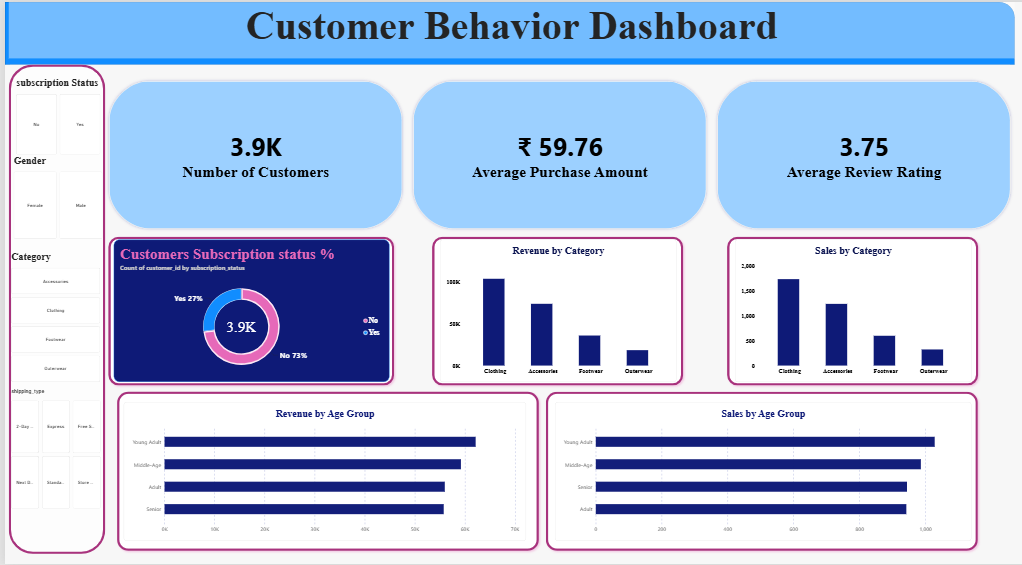

This screenshot's page, from the dashboard's own definition file:
{"tool":"powerbi","page":{"name":"Page 1","canvas":[3000,1500],"ordinal":0},"visuals":[{"type":"cardVisual","fields":{"Data":["public customer.Number of Customers","public customer.Average Purchase Amount","public customer.Average Review Rating"]},"box":[267.5,200,2425,415],"z":0},{"type":"shape","box":[0,0,2692.5,167.5],"z":1000},{"type":"textbox","box":[10,0,2682.5,150],"z":2000},{"type":"shape","box":[267.5,615,780,415],"z":3000},{"type":"donutChart","title":"Customers Subscription status %","fields":{"Category":["public customer.subscription_status"],"Y":["CountNonNull(public customer.customer_id)"]},"box":[290,632.5,735,380],"z":4000},{"type":"shape","box":[1131.2,615,687.5,415],"z":5000},{"type":"shape","box":[1915,615,687.5,415],"z":6000},{"type":"clusteredColumnChart","title":"Revenue by Category","fields":{"Category":["public customer.category"],"Y":["Sum(public customer.purchase_amount)"]},"box":[1160,632.5,630,380],"z":7000},{"type":"clusteredColumnChart","title":"Sales by Category","fields":{"Category":["public customer.category"],"Y":["CountNonNull(public customer.customer_id)"]},"box":[1945,632.5,630,380],"z":8000},{"type":"shape","box":[10,167.5,257.5,1305],"z":9000},{"type":"advancedSlicerVisual","title":"subscription Status","fields":{"Values":["public customer.subscription_status"]},"box":[30,200,225,207.5],"z":10000},{"type":"advancedSlicerVisual","title":"Gender","fields":{"Values":["public customer.gender"]},"box":[22.5,407.5,237.5,225],"z":11000},{"type":"advancedSlicerVisual","title":"Category","fields":{"Values":["public customer.category"]},"box":[17.5,662.5,237.5,350],"z":12000},{"type":"advancedSlicerVisual","fields":{"Values":["public customer.shipping_type"]},"box":[17.5,1030,240,322.5],"z":13000},{"type":"shape","box":[290,1030,1142.5,442.5],"z":14000},{"type":"shape","box":[1432.5,1030,1170,442.5],"z":15000},{"type":"clusteredBarChart","title":"Revenue by Age Group","fields":{"Category":["public customer.age_group"],"Y":["Sum(public customer.purchase_amount)"]},"box":[317.5,1067.5,1072.5,370],"z":16000},{"type":"clusteredBarChart","title":"Sales by Age Group","fields":{"Category":["public customer.age_group"],"Y":["CountNonNull(public customer.customer_id)"]},"box":[1465,1067.5,1110,370],"z":17000}]}

Visuals, with their boxes on the page's 3000x1500 design canvas (x1, y1, x2, y2). These are canvas units, not pixel positions in the 1022x565 screenshot, which may show the page scaled, cropped or inside an application window:
cardVisual - public customer.Number of Customers x public customer.Average Purchase Amount: rect(268, 200, 2692, 615)
shape: rect(0, 0, 2692, 168)
textbox: rect(10, 0, 2692, 150)
shape: rect(268, 615, 1048, 1030)
"Customers Subscription status %" donutChart: rect(290, 632, 1025, 1012)
shape: rect(1131, 615, 1819, 1030)
shape: rect(1915, 615, 2602, 1030)
"Revenue by Category" clusteredColumnChart: rect(1160, 632, 1790, 1012)
"Sales by Category" clusteredColumnChart: rect(1945, 632, 2575, 1012)
shape: rect(10, 168, 268, 1472)
"subscription Status" advancedSlicerVisual: rect(30, 200, 255, 408)
"Gender" advancedSlicerVisual: rect(22, 408, 260, 632)
"Category" advancedSlicerVisual: rect(18, 662, 255, 1012)
advancedSlicerVisual - public customer.shipping_type: rect(18, 1030, 258, 1352)
shape: rect(290, 1030, 1432, 1472)
shape: rect(1432, 1030, 2602, 1472)
"Revenue by Age Group" clusteredBarChart: rect(318, 1068, 1390, 1438)
"Sales by Age Group" clusteredBarChart: rect(1465, 1068, 2575, 1438)
